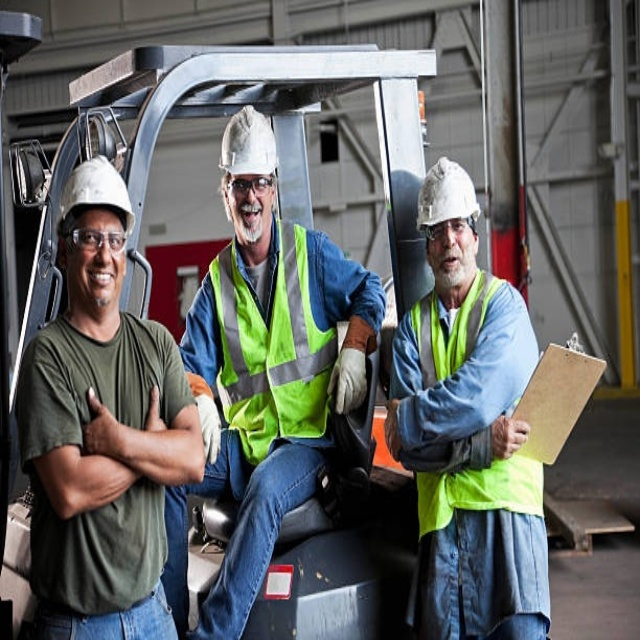Gafas: (66, 228, 128, 253), (425, 217, 474, 242), (228, 175, 274, 195)
Guantes: (327, 346, 367, 416), (193, 393, 221, 466)
Sin_guantes: (84, 383, 125, 458), (490, 414, 529, 463), (140, 383, 172, 433), (383, 399, 404, 462)
Sin_mascara: (87, 268, 114, 285), (239, 204, 261, 221), (439, 252, 461, 266)
